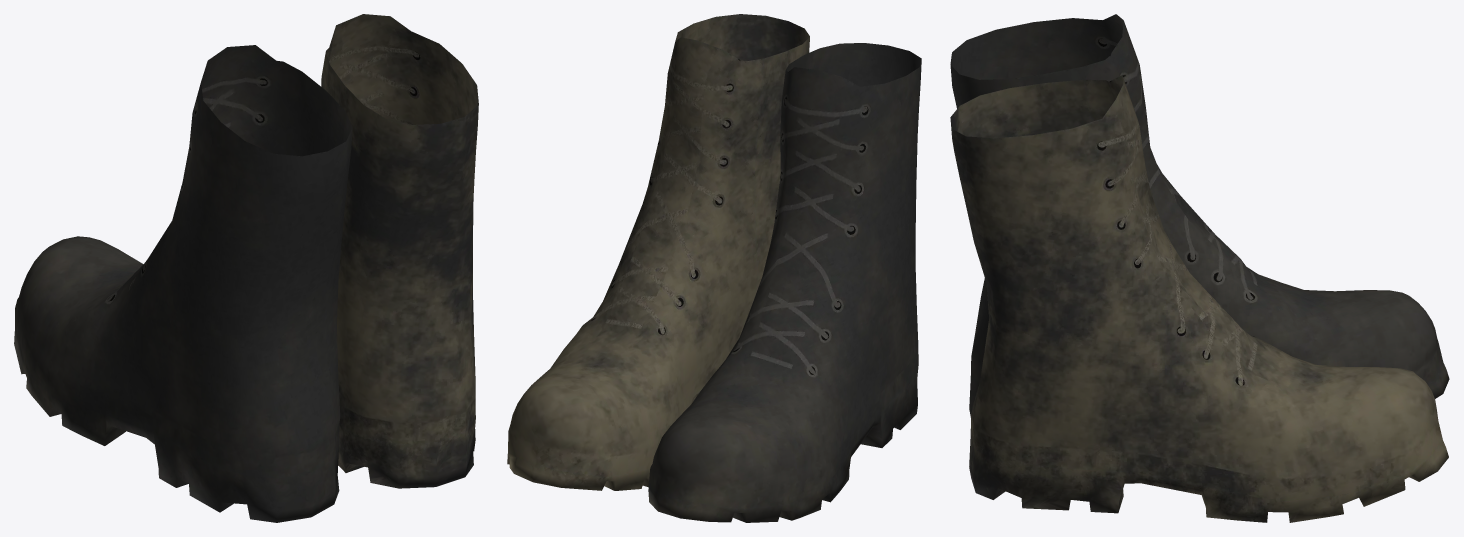
The model's file is bota marrom com barro.glb.
3 views of the same model, side by side, from view 1: azimuth 30°, elevation 25°; view 2: azimuth 150°, elevation 25°; view 3: azimuth 270°, elevation 25° (orthographic). The views are drawn at different scales.
Visible parts, largest first — view 1: Boots2_boots2_0, boots_boots_0; view 2: Boots2_boots2_0, boots_boots_0; view 3: boots_boots_0, Boots2_boots2_0.
Part boxes in pixels (bbox=[...]): Boots2_boots2_0: bbox=[14, 45, 352, 522]; boots_boots_0: bbox=[321, 14, 478, 488]; Boots2_boots2_0: bbox=[648, 43, 921, 522]; boots_boots_0: bbox=[507, 14, 809, 490]; boots_boots_0: bbox=[950, 75, 1448, 522]; Boots2_boots2_0: bbox=[950, 14, 1449, 417].
Bounding box in the file's own units: 3.36 × 4.15 × 4.72.
Materials: 2 (2 with a texture image).
